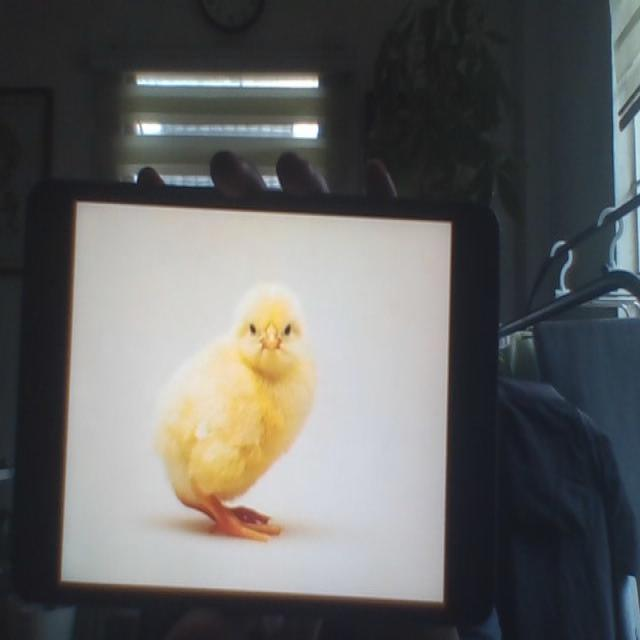Healthy: (159, 280, 313, 542)
